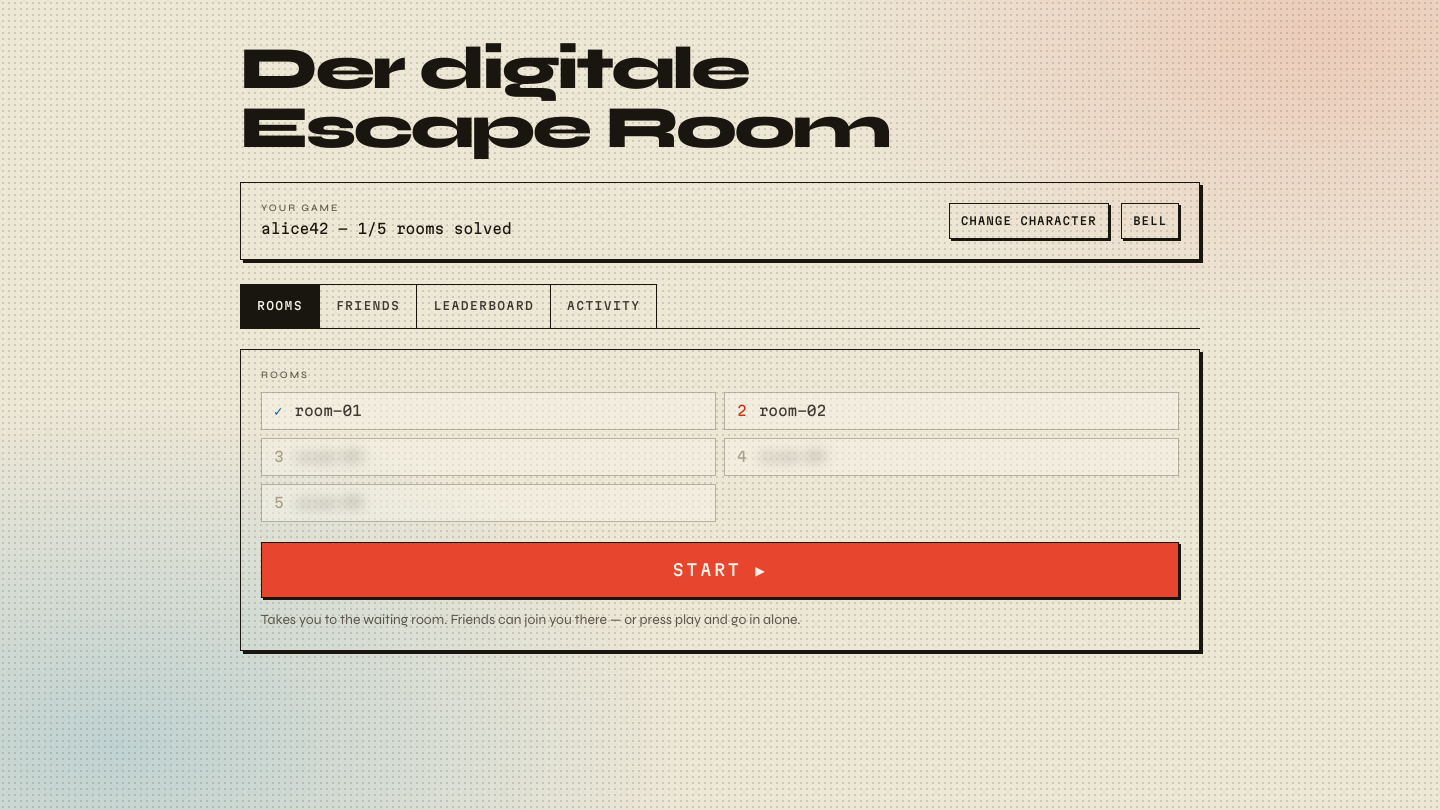
it: App › signed in with a complete profile › opens on the rooms tab, and keeps the game status visible across tabs
Expected: the text "alice42 — 1/5 rooms solved" is shown, [261, 219, 512, 239]
Click the tab "Leaderboard": x=484, y=306 [416, 284, 551, 328]
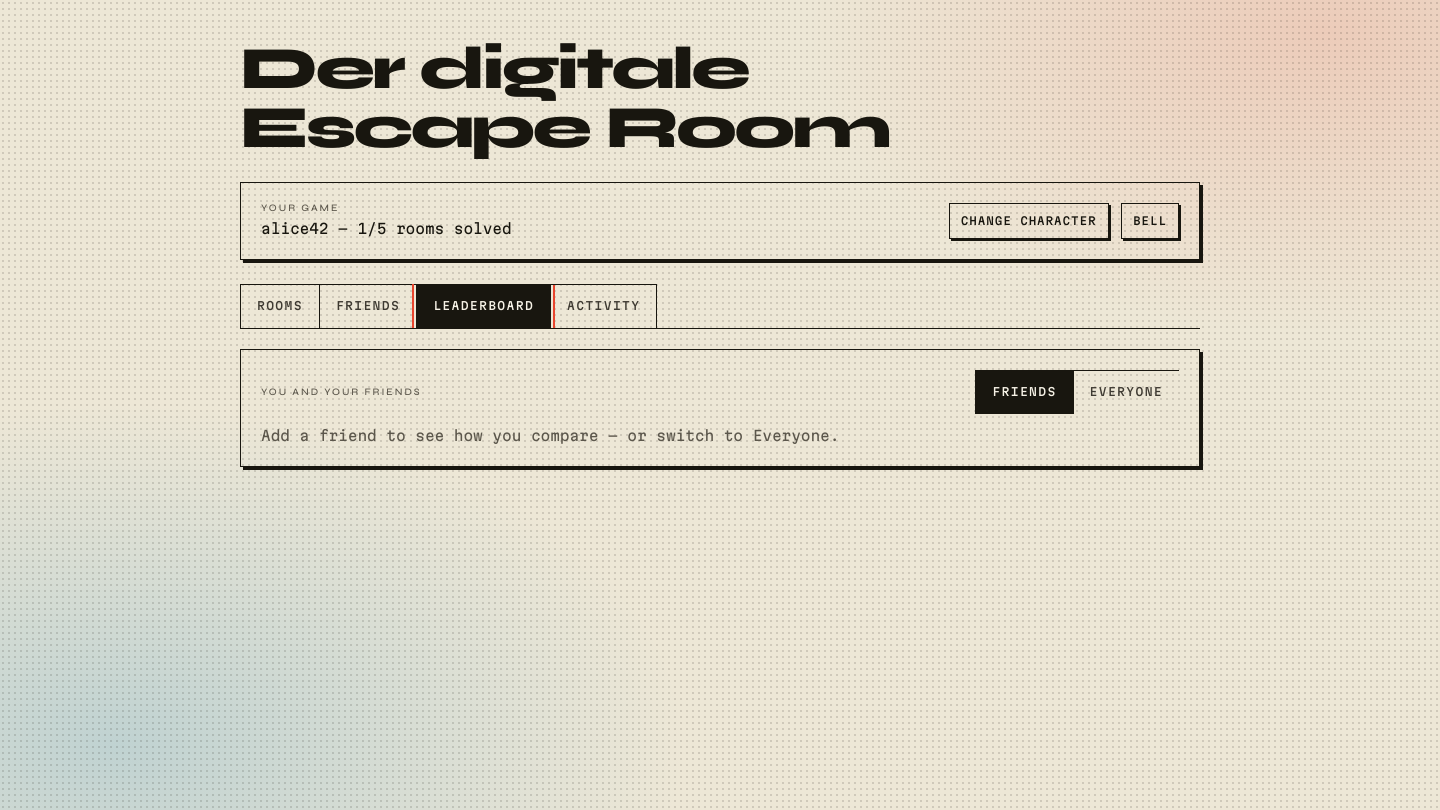
Expected: the list item with test id "room-01" is gone
